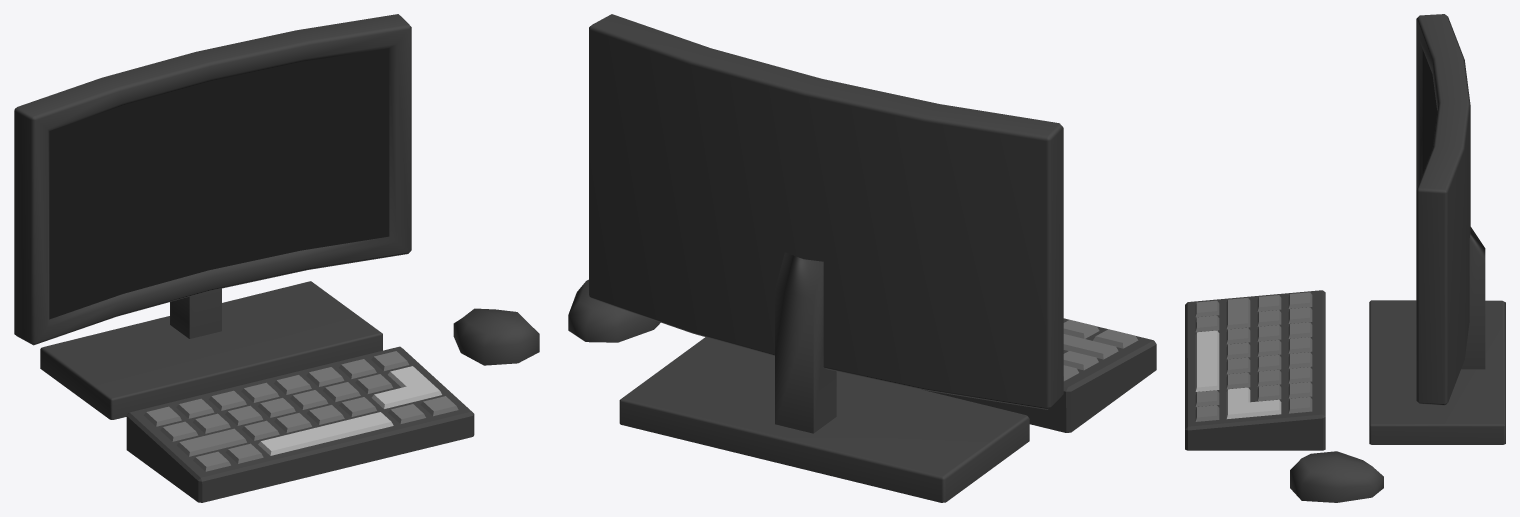
Rendered from electronics_007.fbx.
The picture shows the model from 3 angles, left to right: view 1: azimuth 30°, elevation 25°; view 2: azimuth 150°, elevation 25°; view 3: azimuth 270°, elevation 25°; orthographic projection. The views are drawn at different scales.
Visible parts, largest first — view 1: electronics_007; view 2: electronics_007; view 3: electronics_007.
Part boxes in pixels (x1=…): electronics_007: x1=14, y1=14, x2=539, y2=502; electronics_007: x1=568, y1=14, x2=1156, y2=502; electronics_007: x1=1185, y1=14, x2=1505, y2=502.
Size of the model in its own units: 111 by 71.97 by 71.6.
